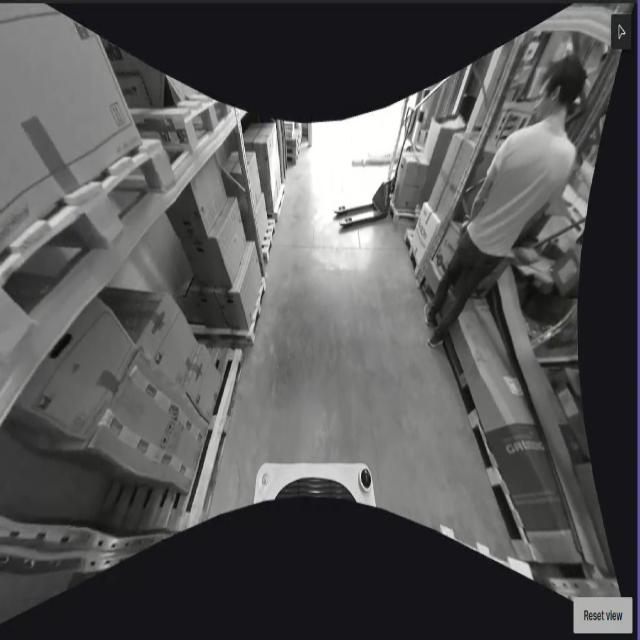Pallets-and-forklifts: (0, 135, 182, 385), (109, 354, 250, 528), (150, 95, 240, 156), (247, 271, 268, 348)
forlift: (330, 107, 416, 237)
